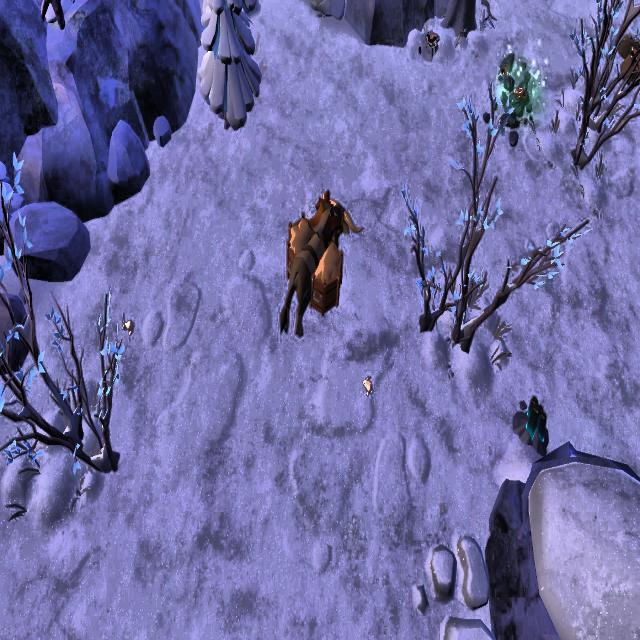ore_t4: (526, 392, 547, 443)
